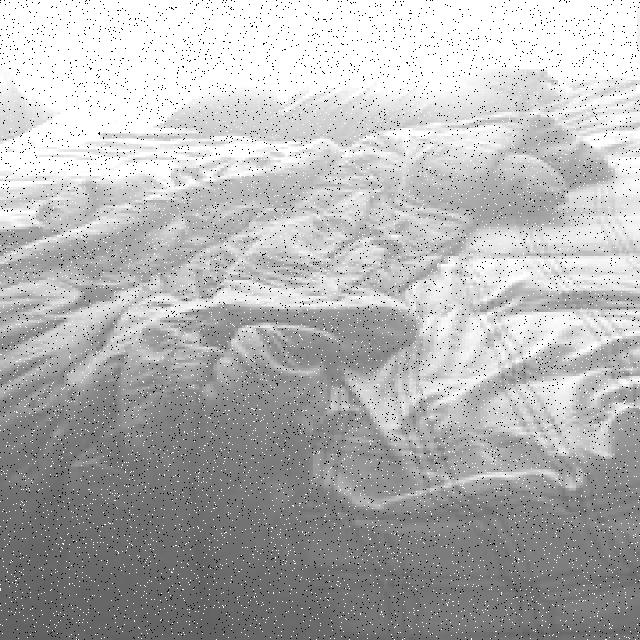bed: (0, 37, 622, 576)
